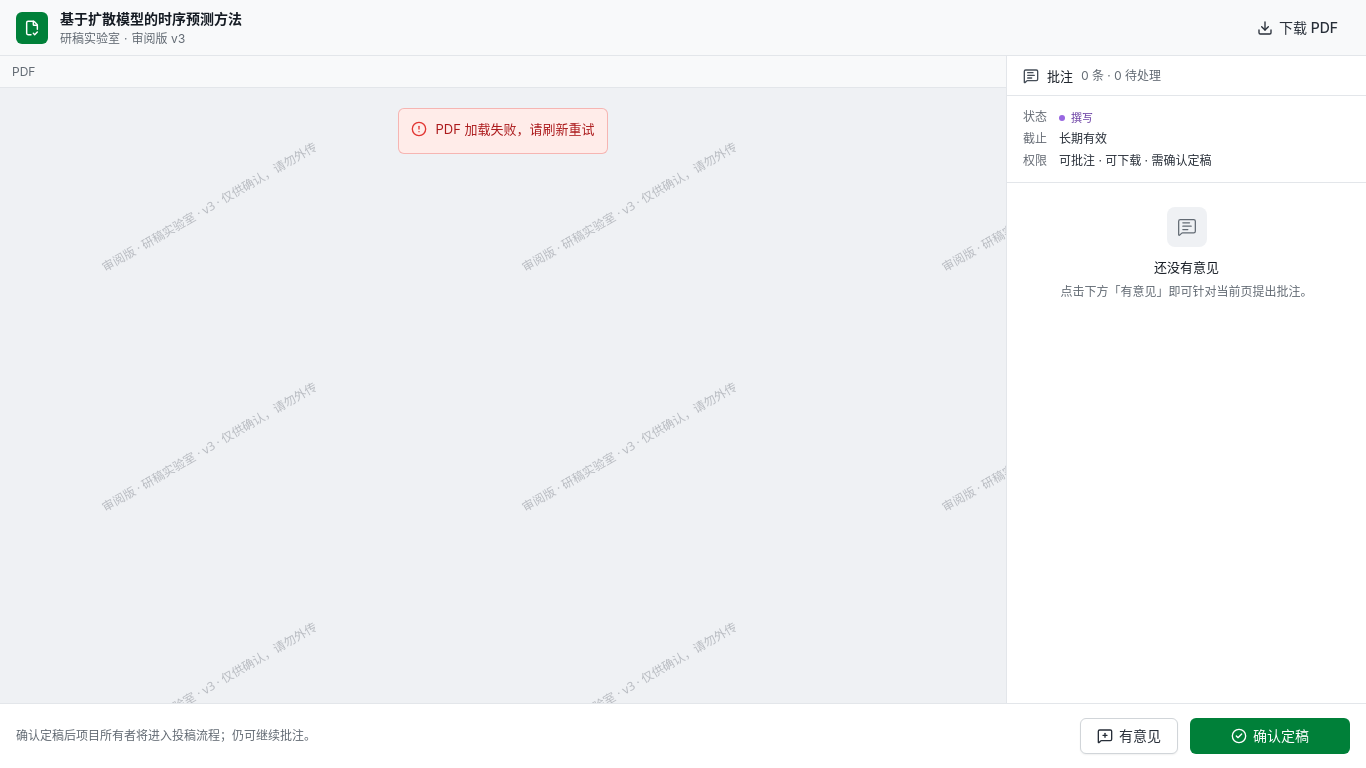
ClientReviewPage 论文工程适配（P1-4） › 仅 PDF 审阅提交意见走 pdf:page-N 页级锚点，抽屉/Toast 使用「项目所有者」文案
This screenshot has width=1366, height=768.
Later steps or results of the test are not shown.
Step 1. Click the button with test id "client-comment" → {"x": 1129, "y": 736}, box left=1080, top=718, right=1178, bottom=754
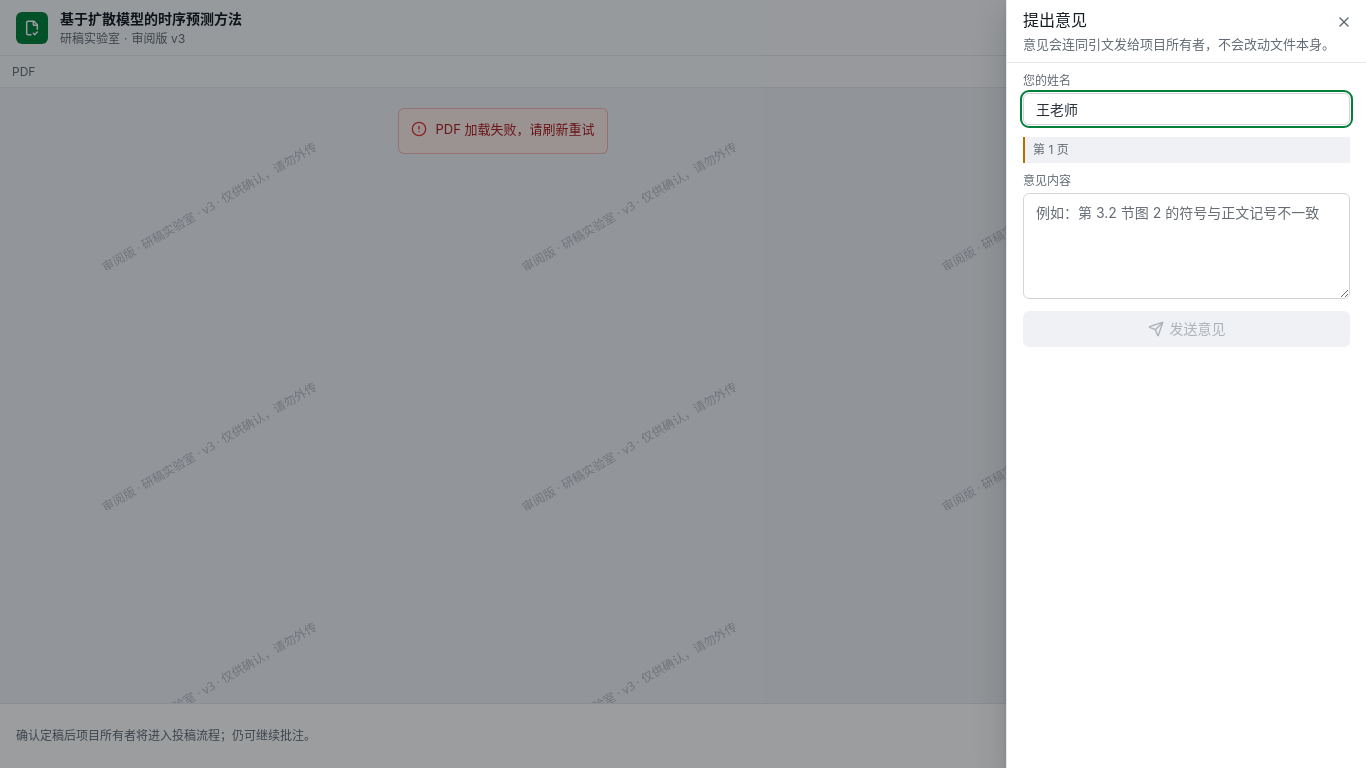
Check: the dialog with test id "client-comment-sheet" shows "项目所有者", box left=1140, top=36, right=1205, bottom=52
Check: the text with test id "client-comment-quote" reads "第 1 页", box left=1033, top=142, right=1069, bottom=157
